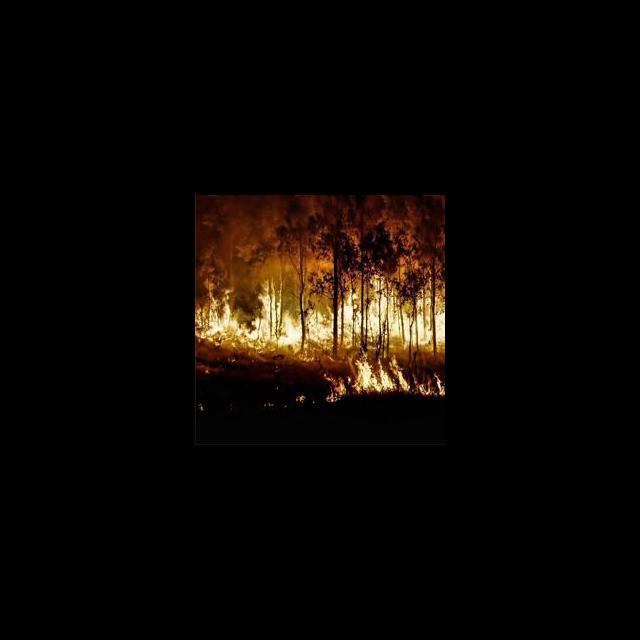Fire: (195, 242, 444, 407)
